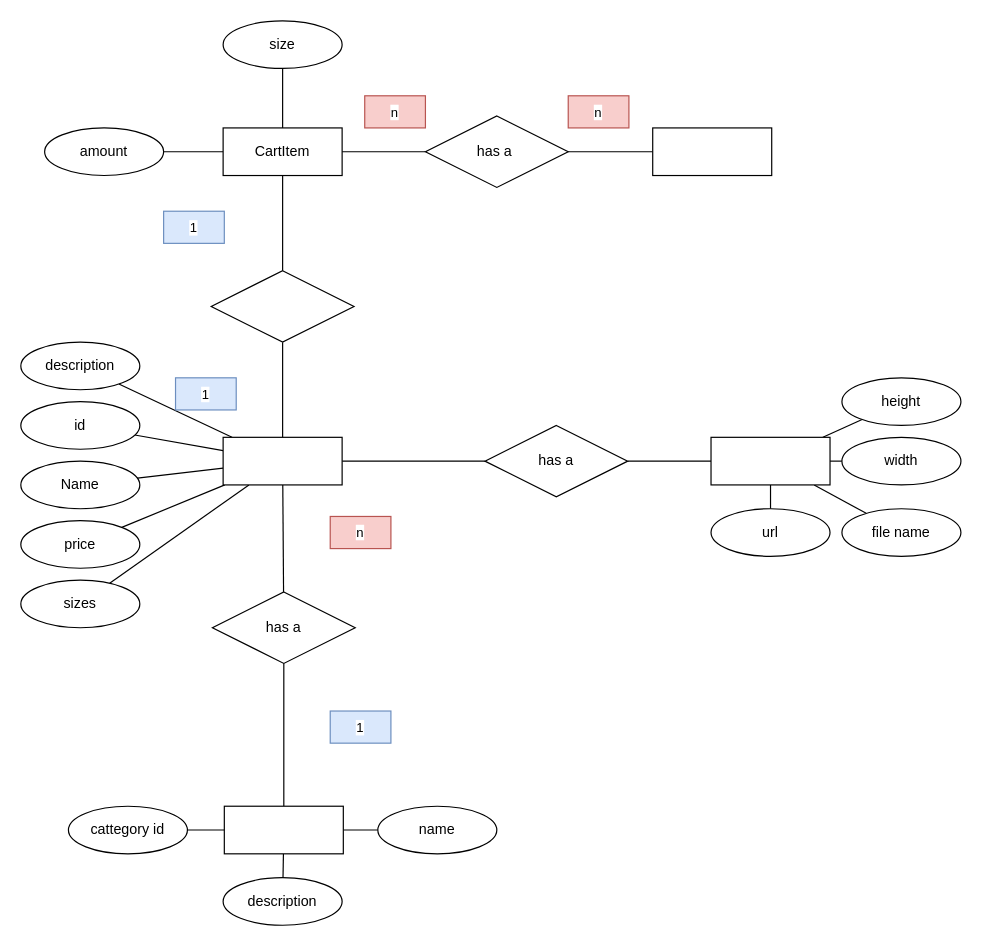
Image size: 982x946. Some labels were removed from this diagram. The box of each missing label's shape, as (x1, y1, x2, y2) in pixels:
cart: (652, 127, 772, 176)
category: (223, 805, 343, 854)
is a: (210, 270, 354, 342)
Picture: (710, 436, 830, 485)
Product: (222, 436, 342, 485)
